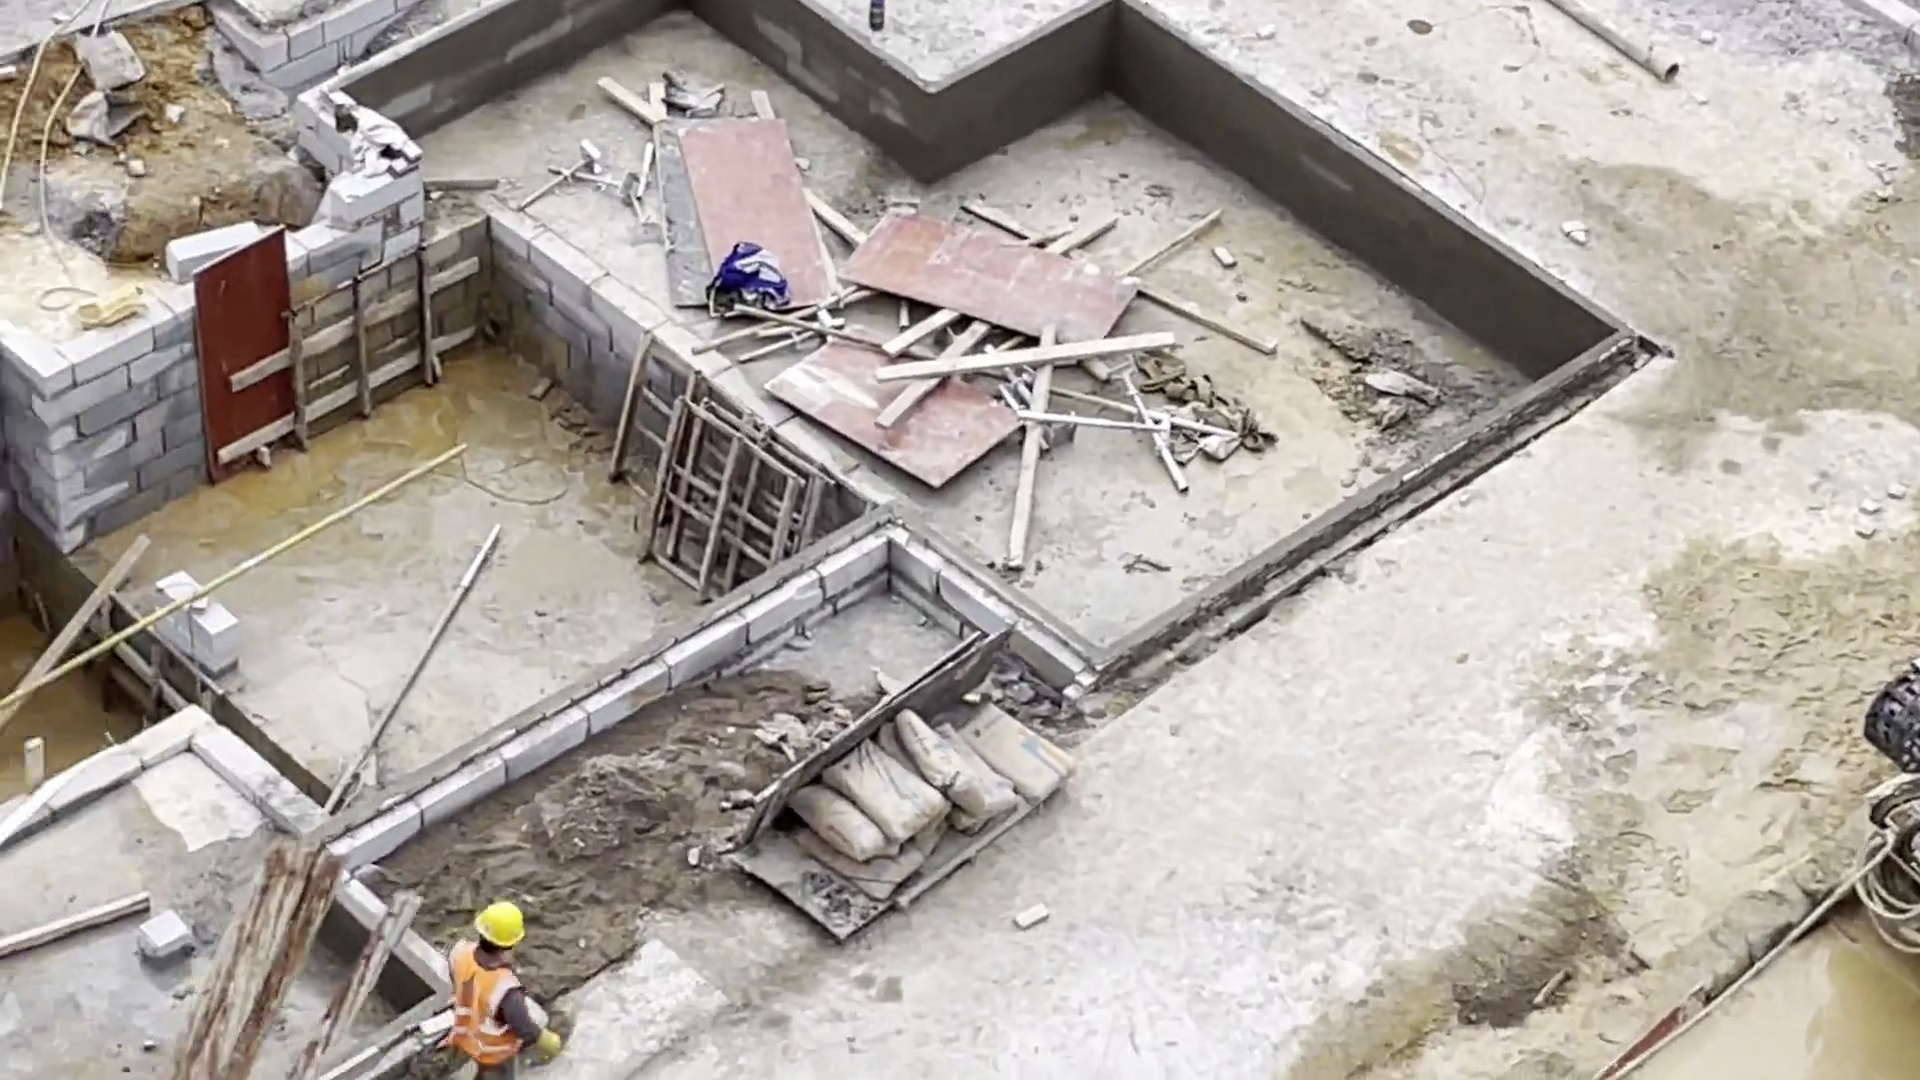helmet: (473, 894, 527, 947)
person: (437, 895, 562, 1080)
vest: (446, 947, 532, 1059)
